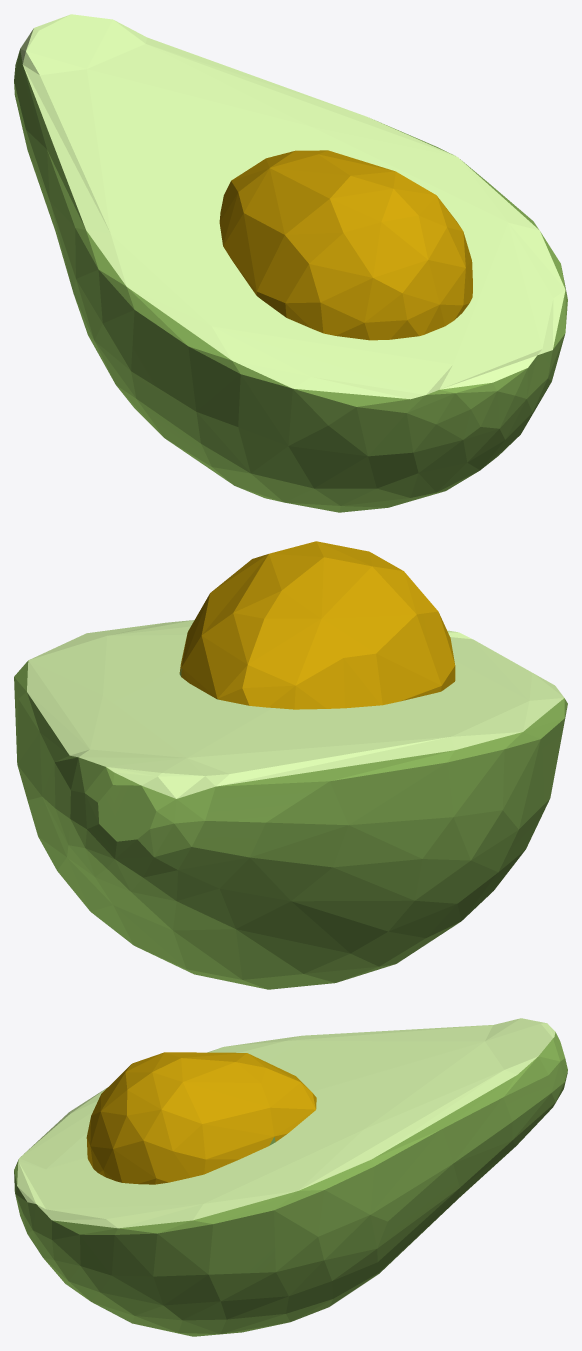
File: avakodaPie.fbx
3 views of the same model, one above another, from view 1: azimuth 30°, elevation 25°; view 2: azimuth 150°, elevation 25°; view 3: azimuth 270°, elevation 25° (orthographic). The views are drawn at different scales.
Parts seen in each view (by area): view 1: Avokado.001; view 2: Avokado.001; view 3: Avokado.001.
Boxes of the visible parts, x1,y1,x2,y2 form: Avokado.001: [14, 14, 567, 512]; Avokado.001: [14, 541, 567, 989]; Avokado.001: [14, 1018, 567, 1336].
Bounding box in the file's own units: 0.1358 × 0.105 × 0.2012.
